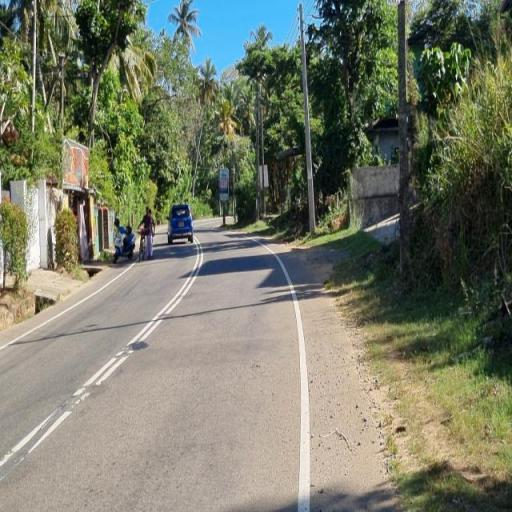double_white_line: (74, 234, 205, 404)
